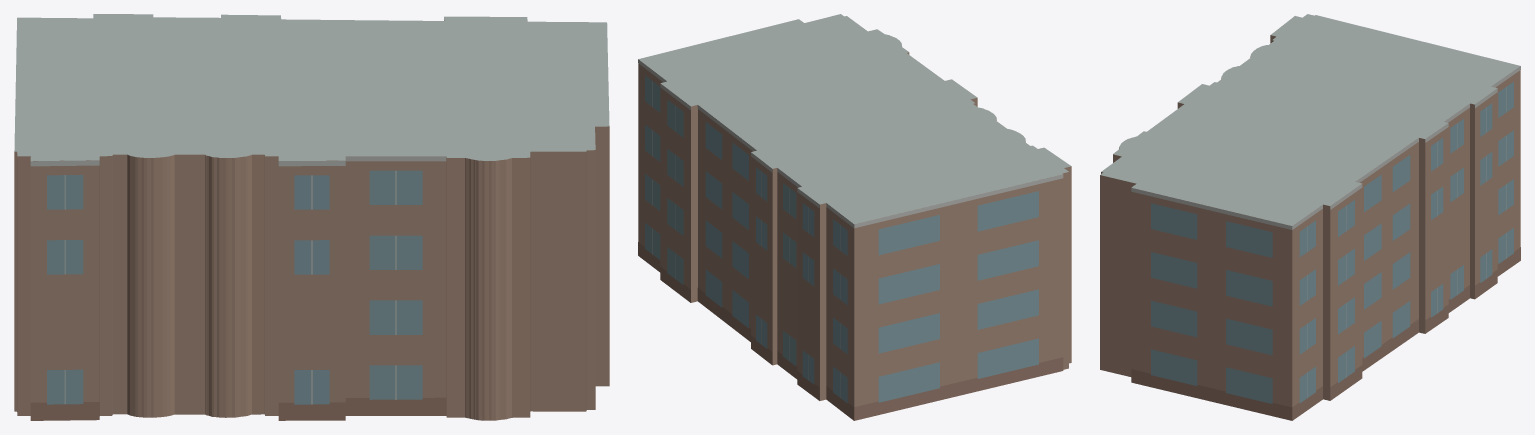
File: survey-upis-32668508.glb
The picture shows the model from 3 angles, left to right: view 1: azimuth 30°, elevation 25°; view 2: azimuth 150°, elevation 25°; view 3: azimuth 270°, elevation 25°; orthographic projection. The views are drawn at different scales.
Parts seen in each view (by area): view 1: survey-upis-32668508.tmp; view 2: survey-upis-32668508.tmp; view 3: survey-upis-32668508.tmp.
Boxes of the visible parts, <box> form: survey-upis-32668508.tmp: <box>14,14,609,420</box>; survey-upis-32668508.tmp: <box>638,14,1071,420</box>; survey-upis-32668508.tmp: <box>1100,14,1520,420</box>.
Size of the model in its own units: 28.26 by 12.1 by 23.68.
